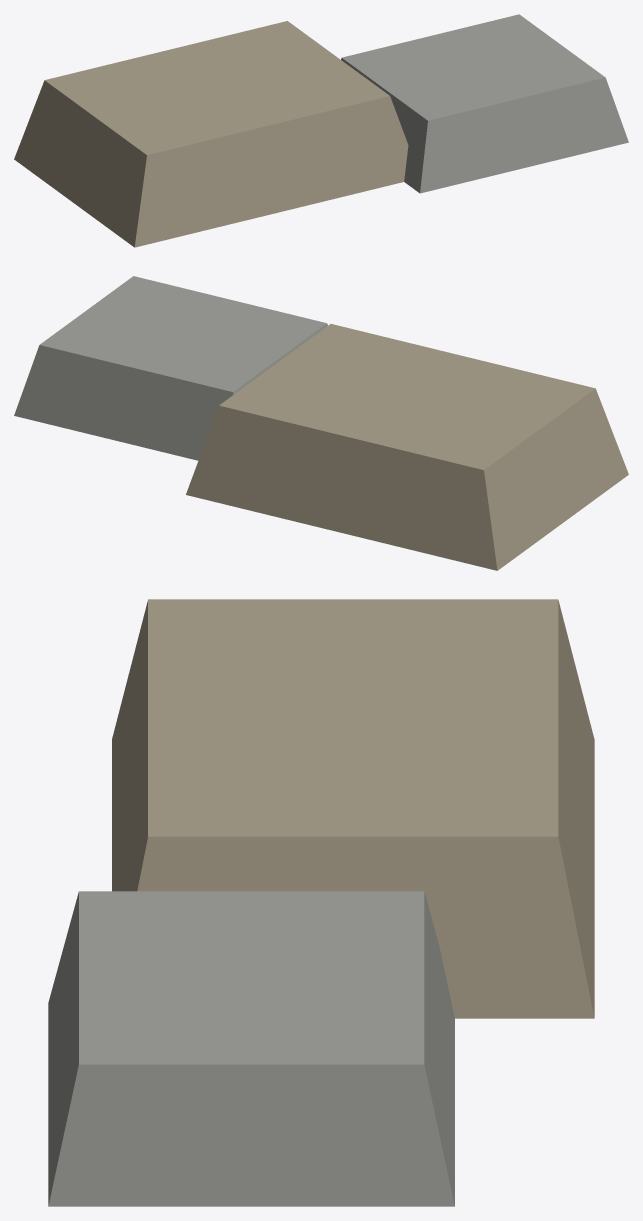
The model's file is prop_cracked_slab.glb.
3 views of the same model, one above another, from view 1: azimuth 30°, elevation 25°; view 2: azimuth 150°, elevation 25°; view 3: azimuth 270°, elevation 25° (orthographic). The views are drawn at different scales.
Visible parts, largest first — view 1: prop_cracked_slab; view 2: prop_cracked_slab; view 3: prop_cracked_slab.
Part boxes in pixels (bbox=[...]): prop_cracked_slab: bbox=[14, 14, 628, 247]; prop_cracked_slab: bbox=[14, 276, 628, 570]; prop_cracked_slab: bbox=[48, 599, 594, 1206].
Size of the model in its own units: 0.435 by 0.07 by 0.215.
